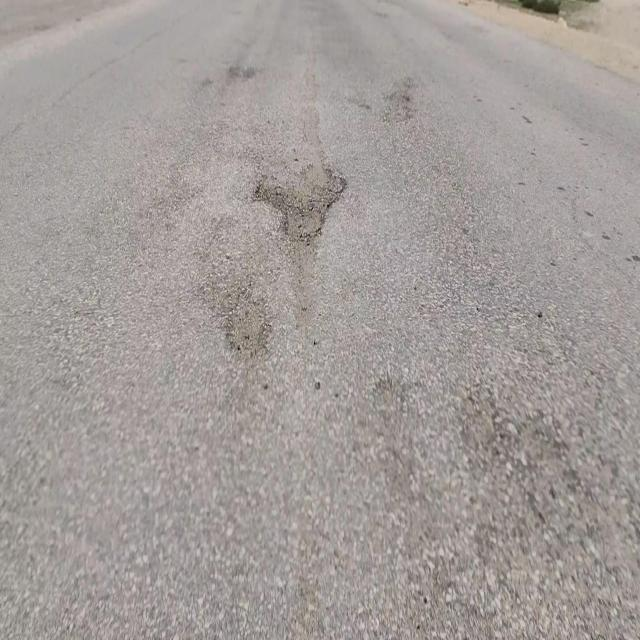Potholes: (249, 156, 349, 249)
